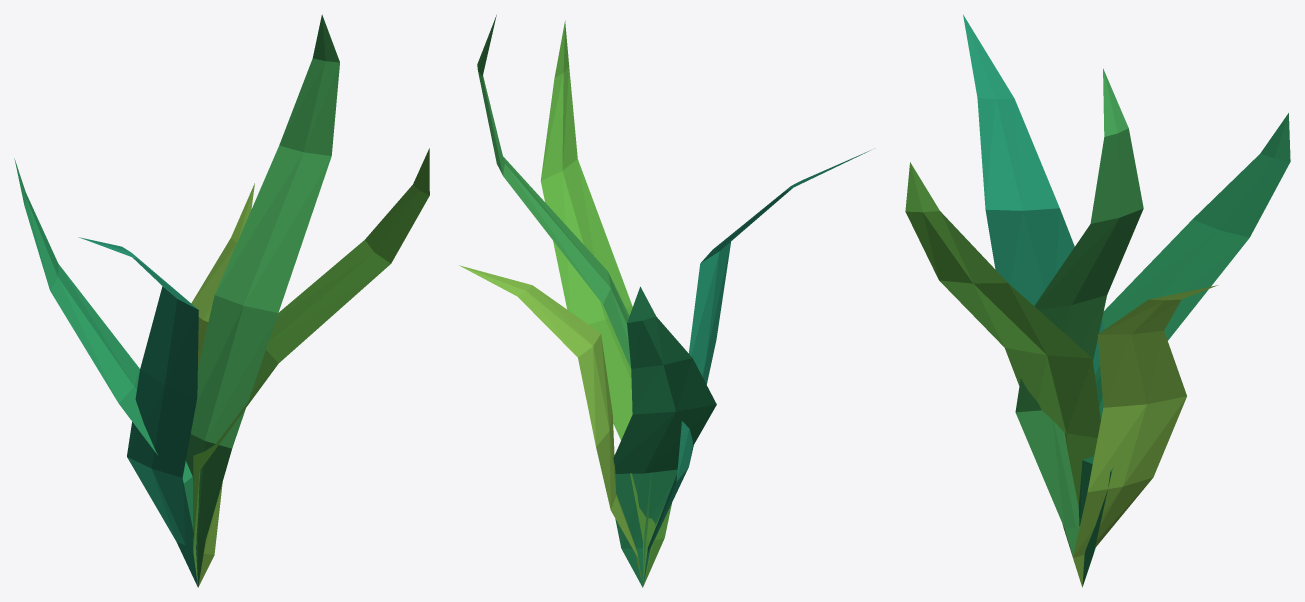
Rendered from seaweed.glb.
3 renders of one model, left to right at view 1: azimuth 30°, elevation 25°; view 2: azimuth 150°, elevation 25°; view 3: azimuth 270°, elevation 25°, orthographic. The views are drawn at different scales.
Parts seen in each view (by area): view 1: seaweed; view 2: seaweed; view 3: seaweed.
Part boxes in pixels (bbox=[...]): seaweed: bbox=[14, 14, 429, 587]; seaweed: bbox=[459, 15, 874, 587]; seaweed: bbox=[905, 14, 1290, 587].
Size of the model in its own units: 0.2569 by 0.4 by 0.2358.
